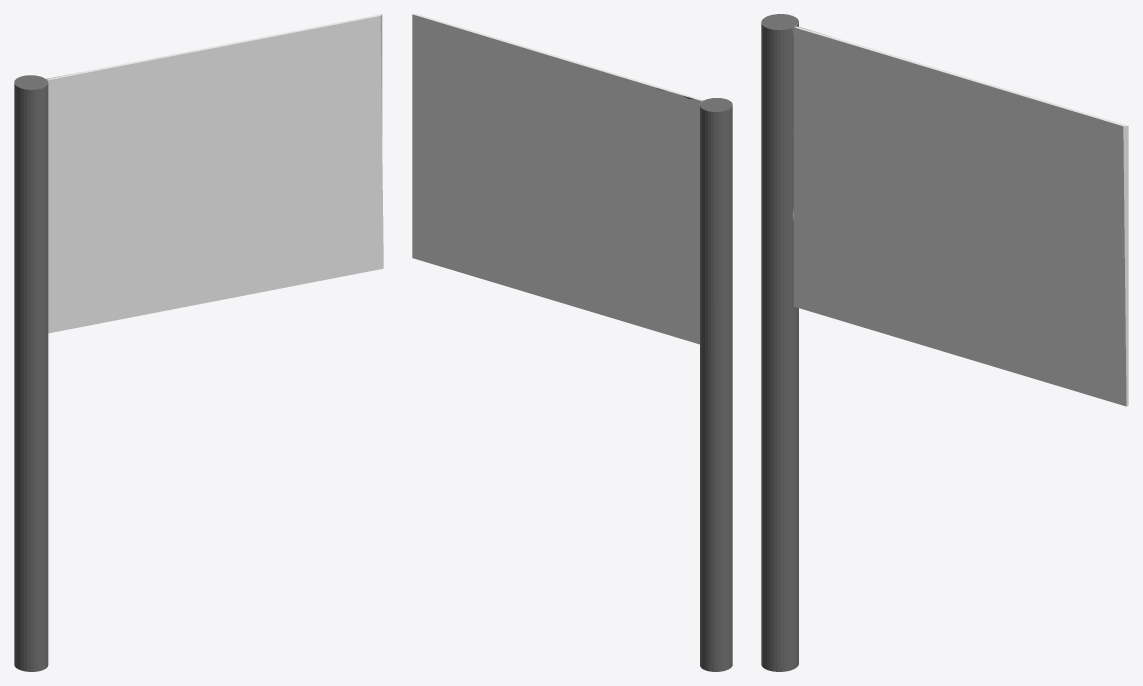
Rendered from control_RESIGN.glb.
3 renders of one model, left to right at view 1: azimuth 30°, elevation 25°; view 2: azimuth 150°, elevation 25°; view 3: azimuth 330°, elevation 25°, orthographic. The views are drawn at different scales.
Parts seen in each view (by area): view 1: Cylinder; view 2: Cylinder; view 3: Cylinder.
Part boxes in pixels (<box>): Cylinder: <box>14,14,383,671</box>; Cylinder: <box>412,14,732,671</box>; Cylinder: <box>761,14,1128,671</box>.
Bounding box in the file's own units: 1.25 × 1.99 × 0.1736.
Materials: 1 (1 with a texture image).
